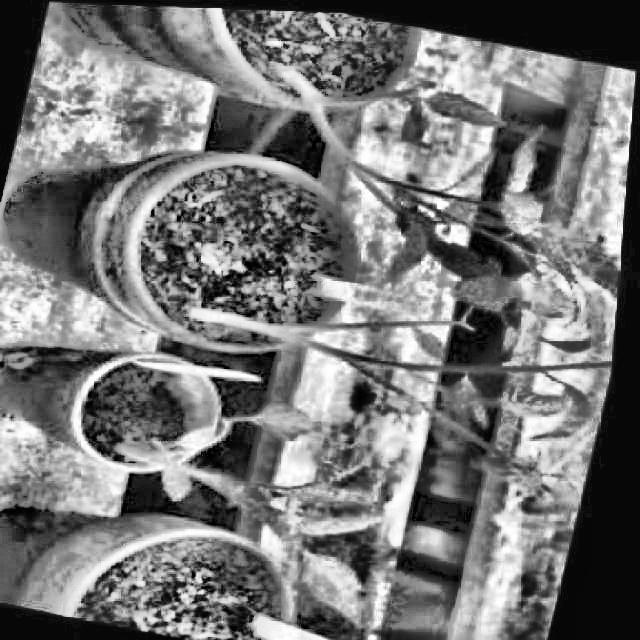plants: (0, 104, 632, 498), (0, 302, 474, 632), (227, 9, 638, 331)
